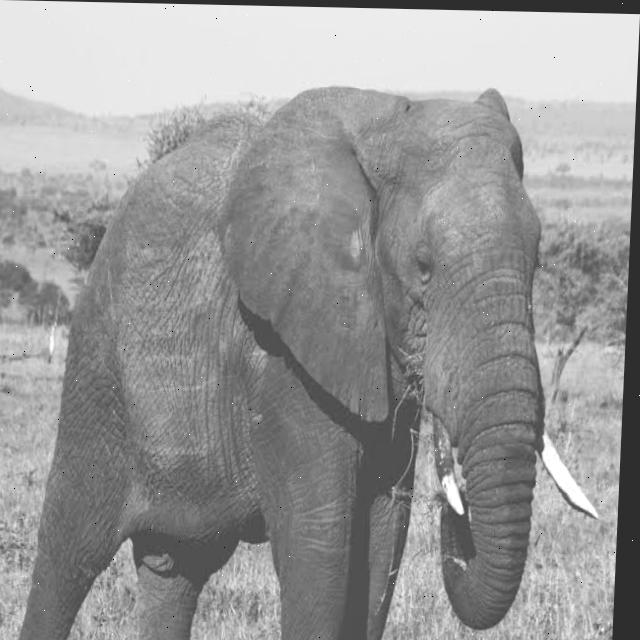Elephant: (15, 75, 618, 640)
